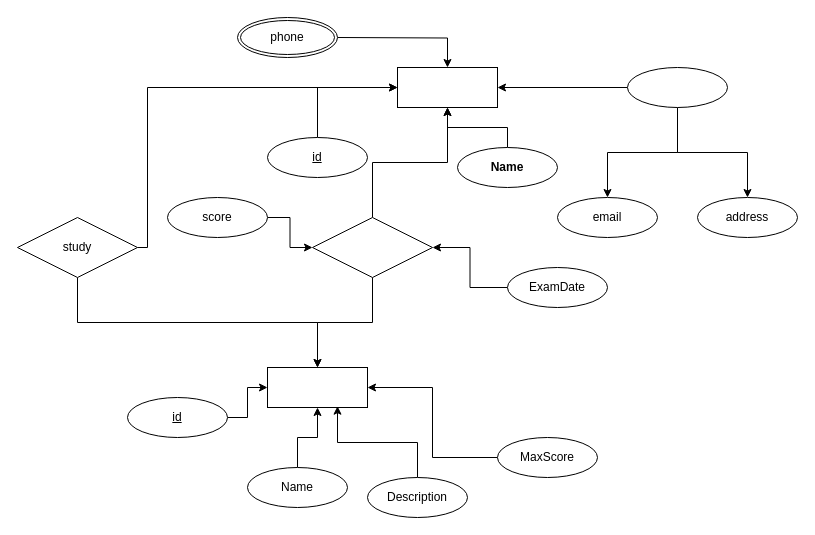
This 815x535 diagram has some shape labels left out. Each missing label, with the centre of its shape:
"contact" goes at point (677, 87).
"Student" goes at point (447, 87).
"Subject" goes at point (317, 387).
"take exam" goes at point (372, 247).
